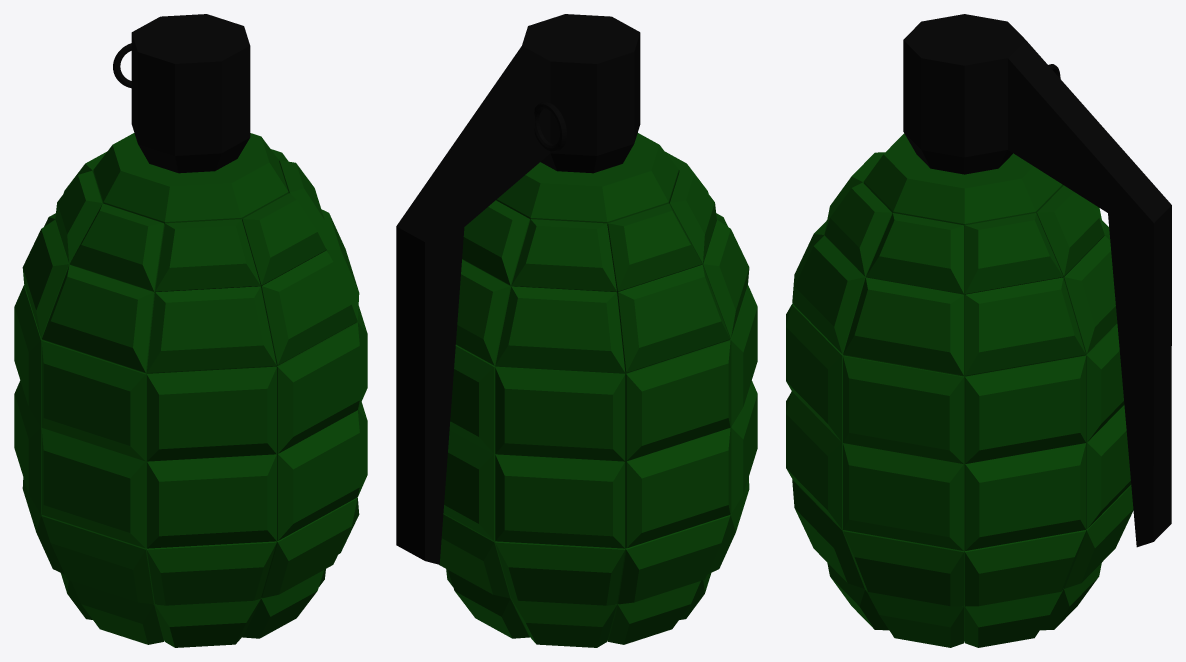
File: grenade_circle_color.fbx
The picture shows the model from 3 angles, left to right: view 1: azimuth 30°, elevation 25°; view 2: azimuth 150°, elevation 25°; view 3: azimuth 270°, elevation 25°; orthographic projection.
Visible parts, largest first — view 1: Cylinder, Cylinder.001; view 2: Cylinder, Cylinder.001; view 3: Cylinder, Cylinder.001.
Part boxes in pixels (<box>): Cylinder: <box>14,133,367,647</box>; Cylinder.001: <box>113,14,250,173</box>; Cylinder: <box>439,133,757,647</box>; Cylinder.001: <box>396,14,640,564</box>; Cylinder: <box>786,133,1133,647</box>; Cylinder.001: <box>903,14,1171,547</box>.
Bounding box in the file's own units: 257 × 445 × 277.
